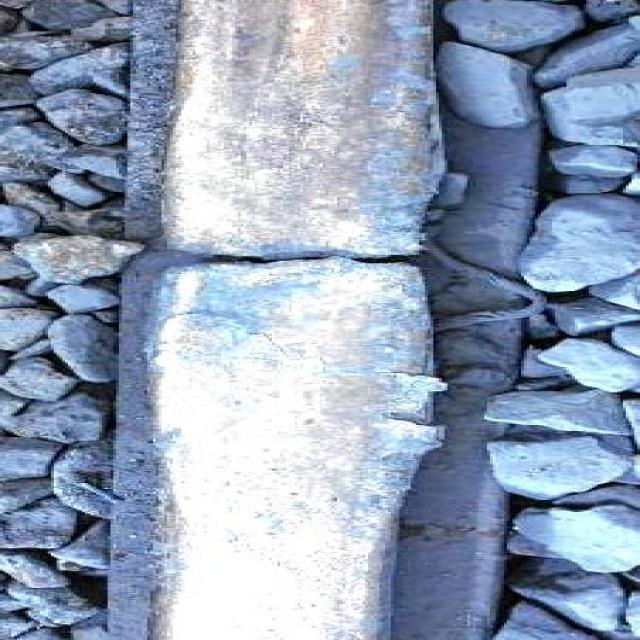squats_high: (142, 272, 438, 492)
